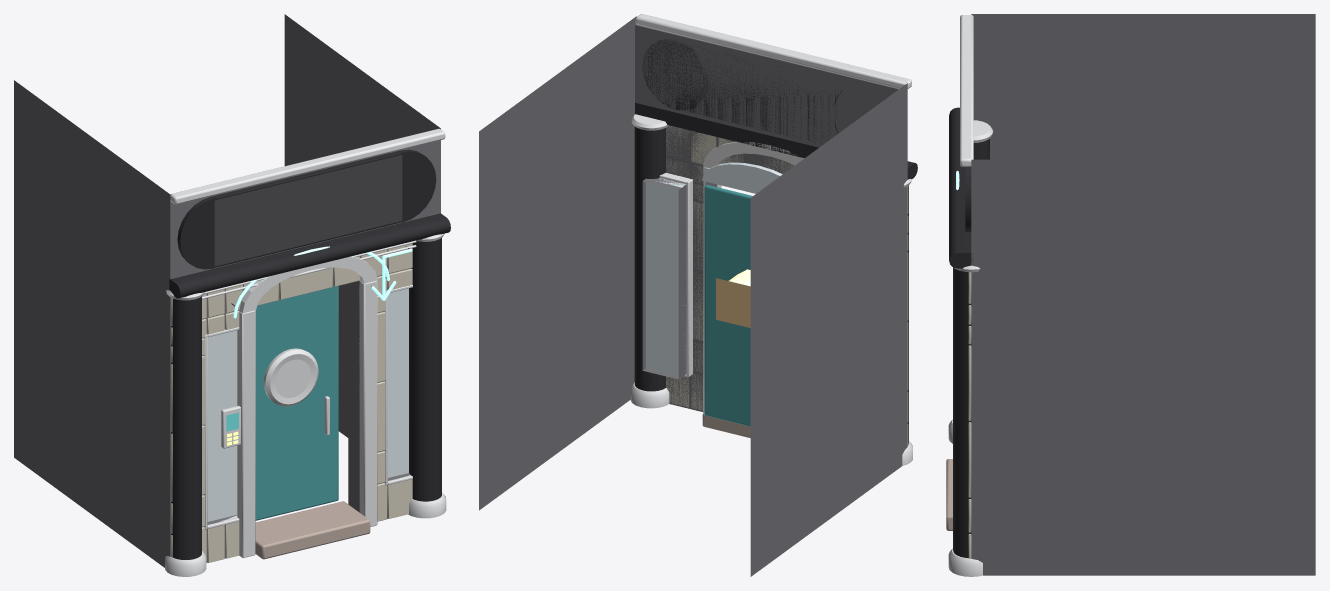
File: retro_doorway_3a.glb
The picture shows the model from 3 angles, left to right: view 1: azimuth 30°, elevation 25°; view 2: azimuth 150°, elevation 25°; view 3: azimuth 270°, elevation 25°; orthographic projection. The views are drawn at different scales.
Parts seen in each view (by area): view 1: retro_doorway_3a; view 2: retro_doorway_3a; view 3: retro_doorway_3a.
Part boxes in pixels (x1,y1,x2,y2): retro_doorway_3a: (14, 14, 450, 576); retro_doorway_3a: (479, 14, 917, 576); retro_doorway_3a: (946, 14, 1315, 576).
Bounding box in the file's own units: 3.06 × 4 × 3.22.
